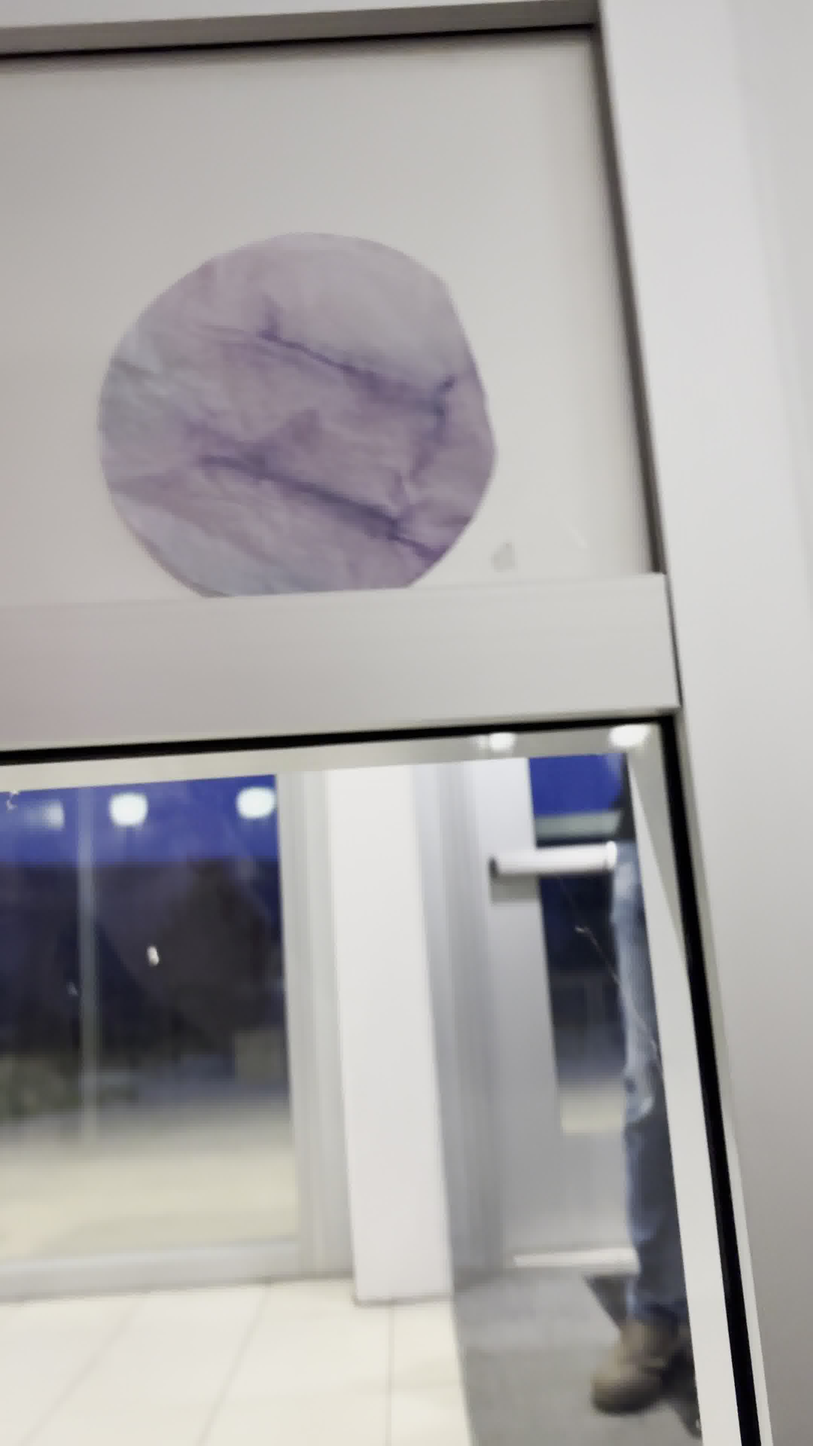Target: (88, 223, 508, 610)
